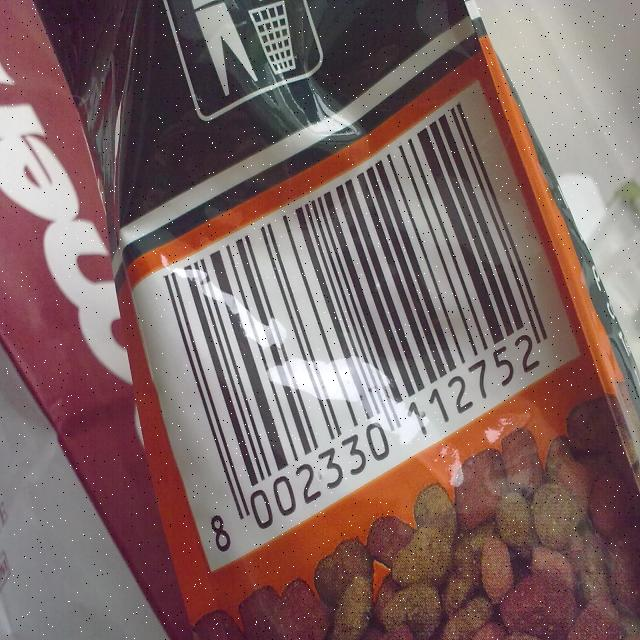barcode: (134, 85, 578, 570)
